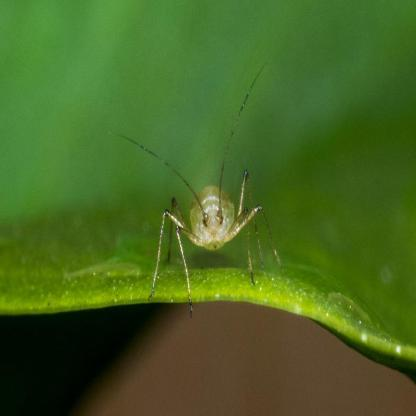aphid: (121, 77, 295, 297)
